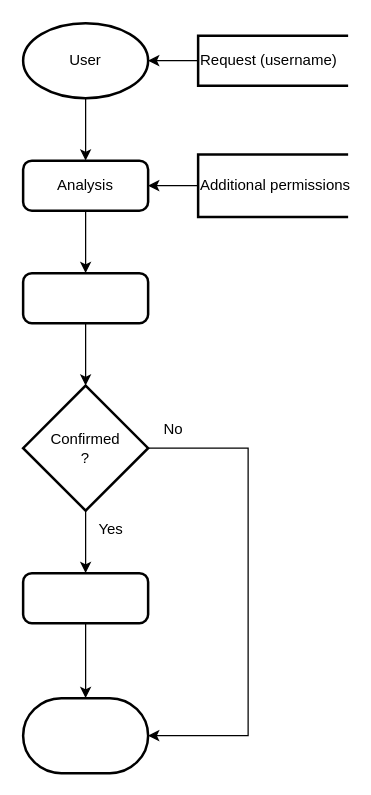
This 371x795 diagram has some shape labels left out. The box of each missing label's shape, as (x1, y1, x2, y2) in pixels:
Add permissions to the user: (21, 571, 149, 624)
Close: (21, 696, 149, 774)
Request for approval (email): (21, 271, 149, 324)
